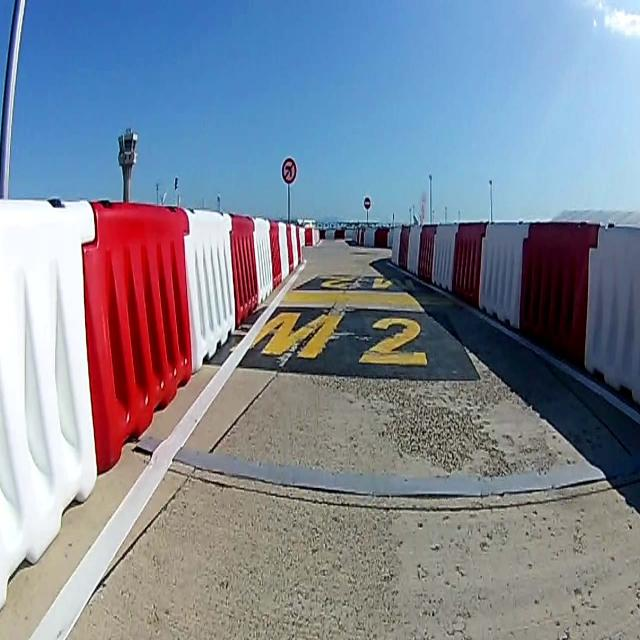girisyok: (363, 196, 371, 209)
soladonulmez: (281, 157, 297, 184)
